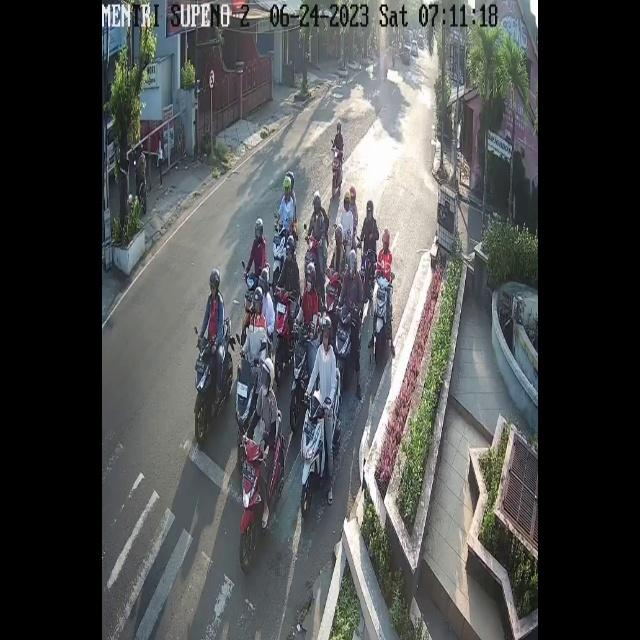bus: (240, 408, 286, 568), (299, 368, 341, 520), (194, 315, 234, 445), (236, 356, 278, 424), (291, 324, 311, 433), (337, 306, 362, 381), (241, 262, 270, 324), (274, 287, 300, 355), (374, 274, 393, 362), (274, 221, 296, 277), (306, 235, 328, 284), (358, 242, 377, 290), (331, 146, 345, 197), (326, 266, 340, 316)
